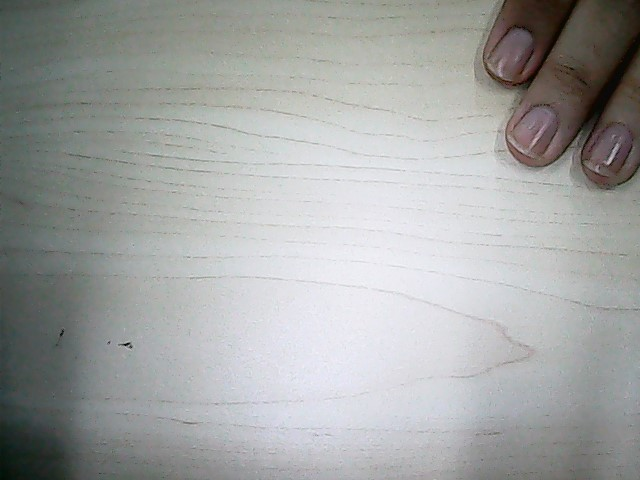nail: (595, 129, 632, 182), (497, 30, 531, 80), (520, 108, 554, 158)
